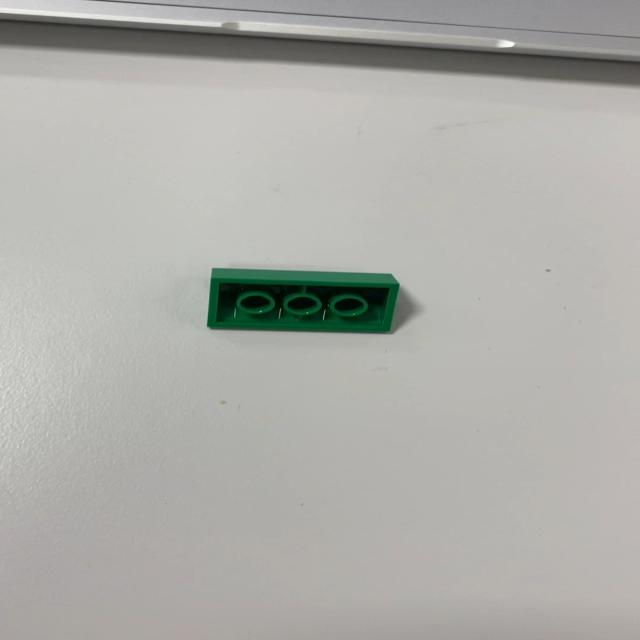P4x2x1: (205, 266, 400, 334)
